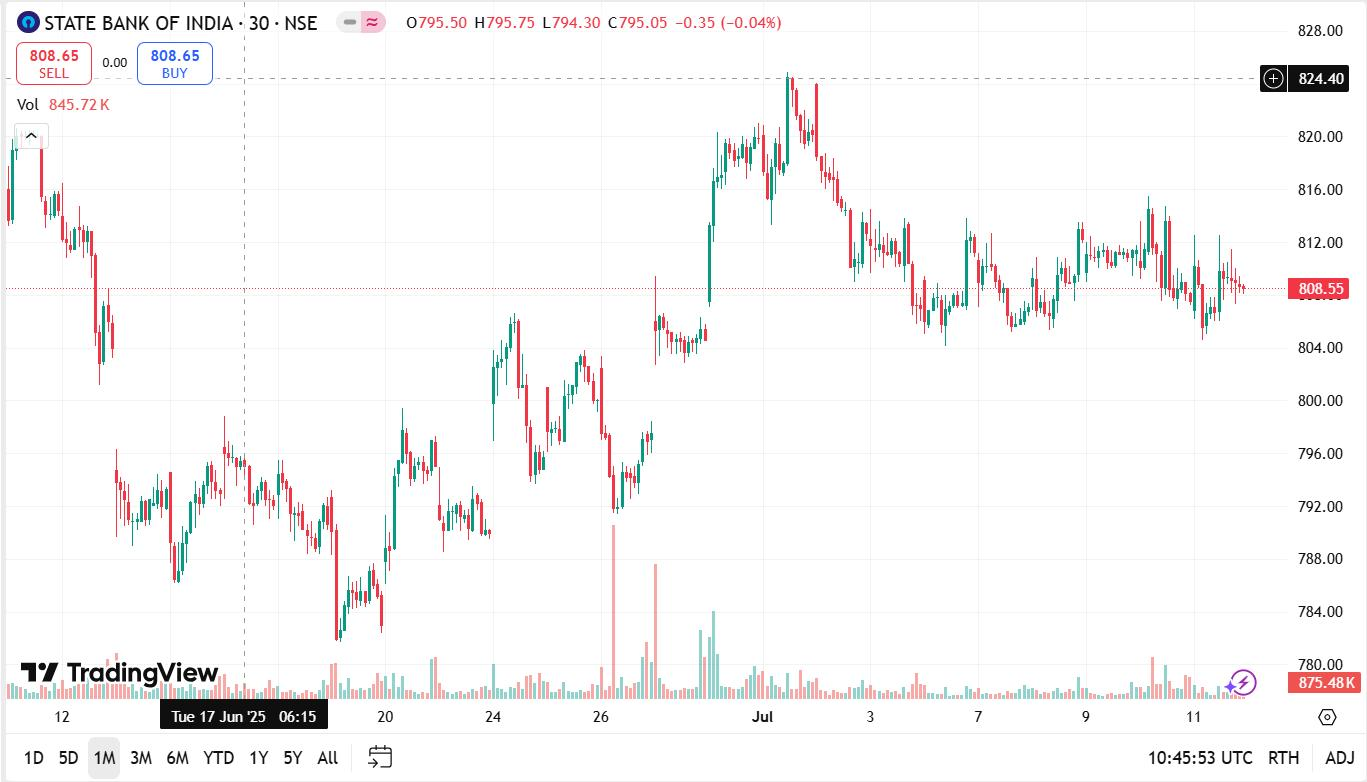Downtrend: (783, 45, 882, 280), (78, 205, 137, 533), (577, 330, 622, 512), (972, 224, 1026, 336)
Sideways: (1065, 195, 1159, 289)
Uptrend: (673, 89, 746, 369), (353, 377, 419, 629), (470, 290, 525, 536), (173, 440, 230, 598)
